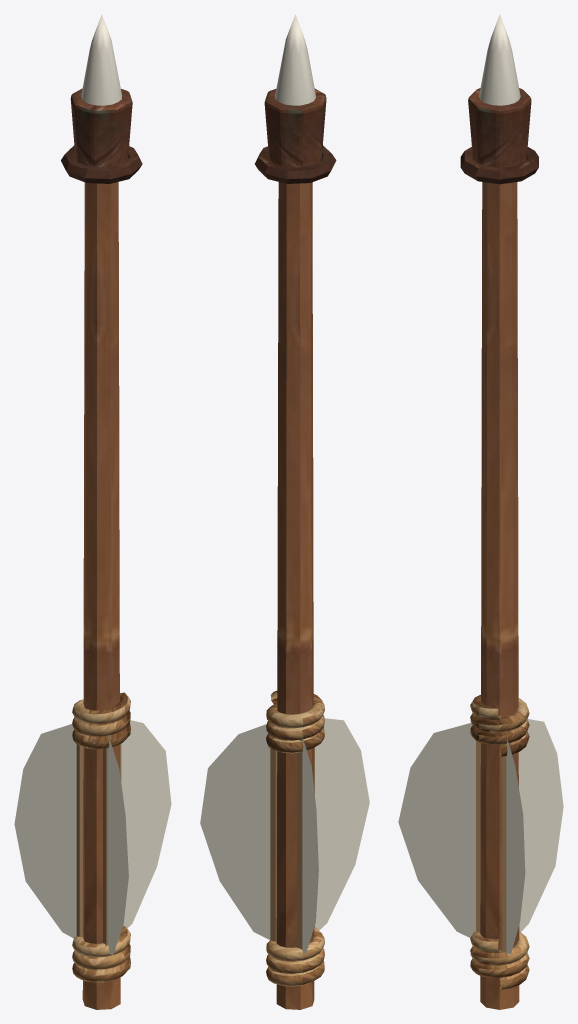
The model's file is bolt_fang.glb.
3 views of the same model, side by side, from view 1: azimuth 30°, elevation 25°; view 2: azimuth 150°, elevation 25°; view 3: azimuth 270°, elevation 25° (orthographic).
Visible parts, largest first — view 1: model; view 2: model; view 3: model.
Part boxes in pixels (<box>): model: <box>14,14,171,1009</box>; model: <box>200,14,369,1009</box>; model: <box>398,14,563,1009</box>.
Size of the model in its own units: 0.0773 by 0.5294 by 0.0803.
Materials: 8 (5 with a texture image).
